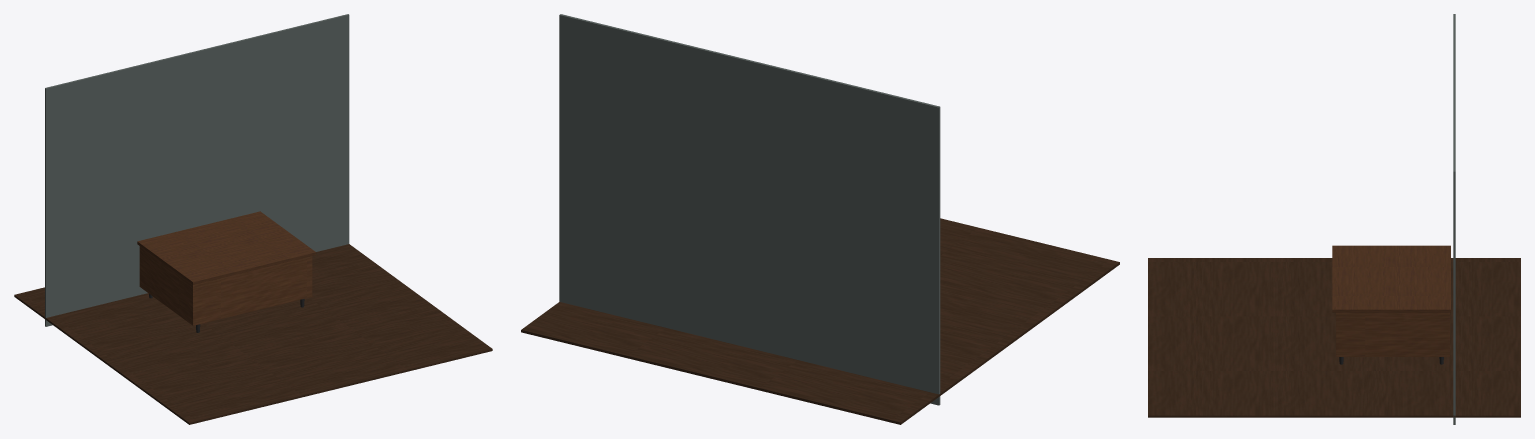
The model's file is vinyl_room.glb.
The picture shows the model from 3 angles, left to right: view 1: azimuth 30°, elevation 25°; view 2: azimuth 150°, elevation 25°; view 3: azimuth 270°, elevation 25°; orthographic projection. The views are drawn at different scales.
Visible parts, largest first — view 1: wall, floor, table_top, table_carcass; view 2: wall, floor; view 3: floor, table_top, table_carcass, wall.
Boxes of the visible parts, left/top/right/bottom form: wall: left=45, top=14, right=349, bottom=326; floor: left=14, top=244, right=492, bottom=424; table_top: left=137, top=211, right=315, bottom=284; table_carcass: left=139, top=246, right=312, bottom=325; wall: left=559, top=14, right=940, bottom=405; floor: left=521, top=218, right=1119, bottom=424; floor: left=1148, top=258, right=1520, bottom=417; table_top: left=1332, top=245, right=1450, bottom=312; table_carcass: left=1336, top=312, right=1449, bottom=356; wall: left=1453, top=14, right=1455, bottom=424.
Bounding box in the file's own units: 3.2 × 2.4 × 3.2.
Materials: 5 (3 with a texture image).
